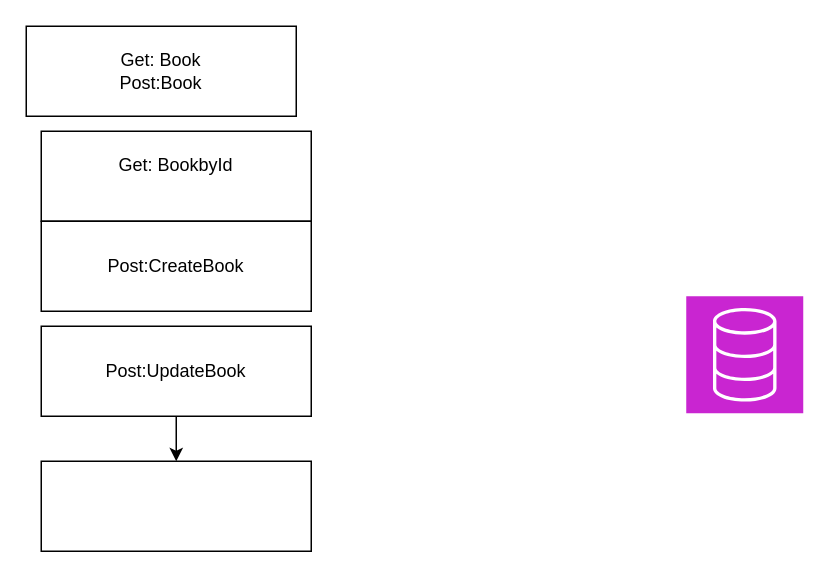
Image size: 830x578. Some labels were removed from this diagram. Each missing label, with the centre of its shape:
"Delete:DeleteBook" goes at [175,505].
"Dynamodb" goes at [744,354].
